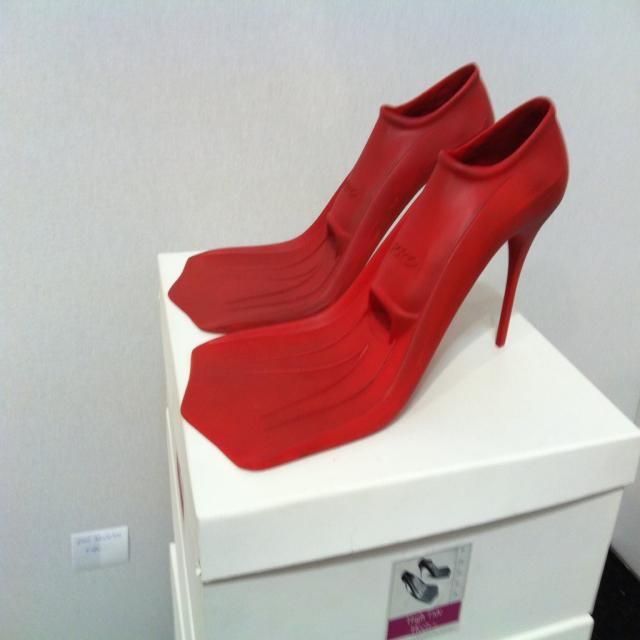Box: (158, 250, 640, 640), (172, 540, 592, 640)
